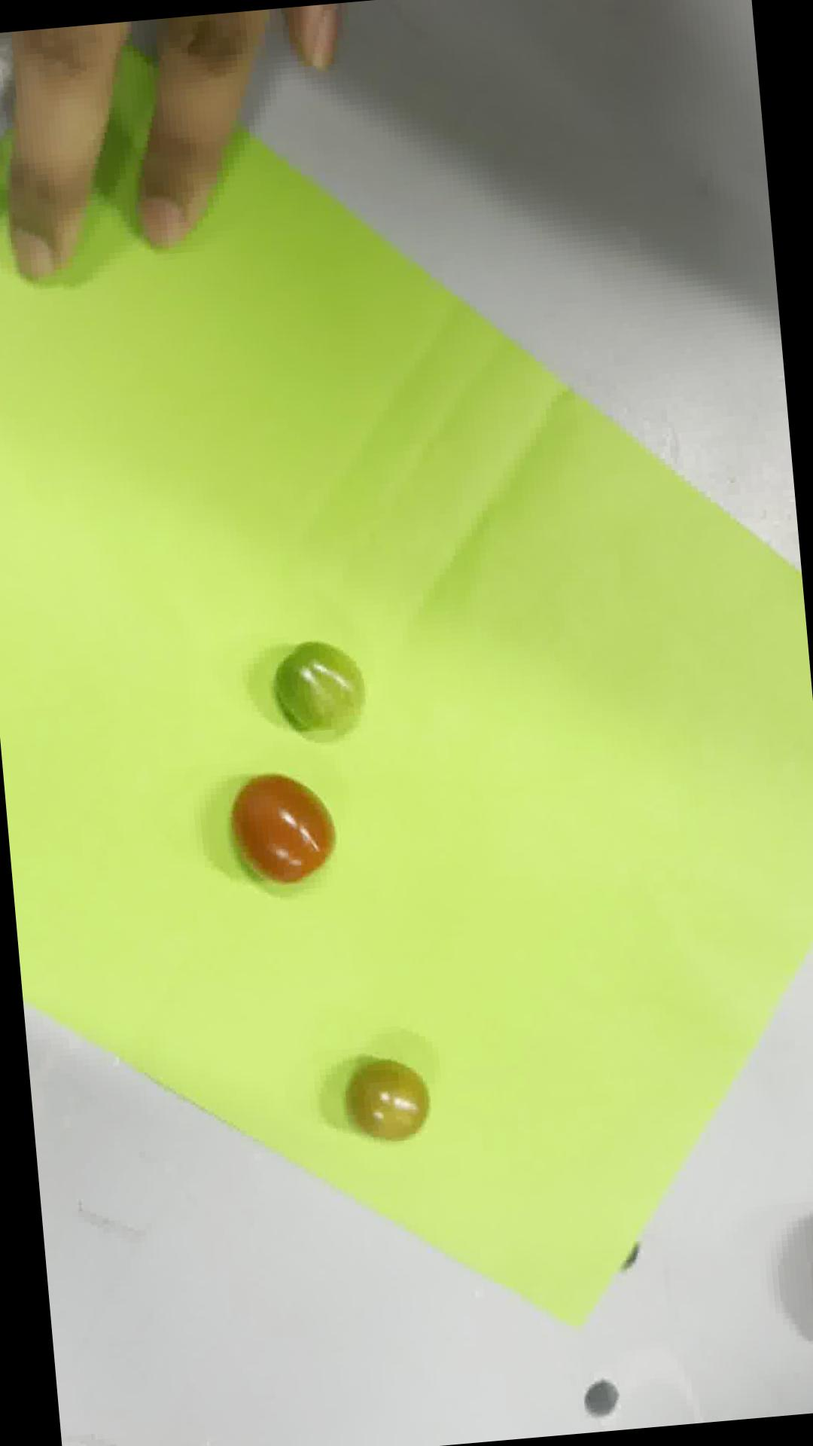green_cherry_tomato: (274, 641, 363, 738)
red_cherry_tomato: (231, 775, 334, 883)
yellow_cherry_tomato: (346, 1060, 428, 1141)
